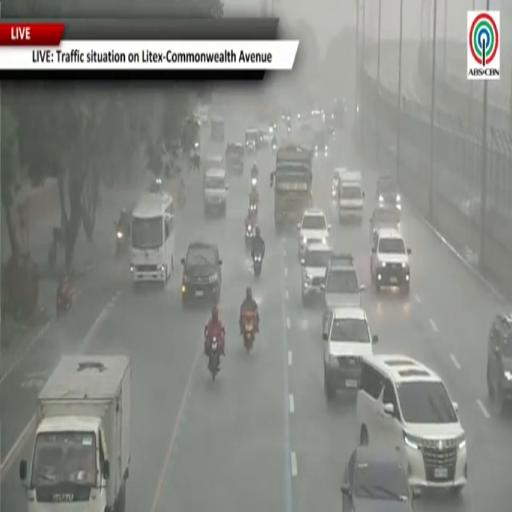bus: (131, 192, 174, 283)
car: (356, 355, 467, 493), (342, 446, 420, 511), (323, 308, 378, 398), (323, 254, 365, 332), (370, 229, 411, 294), (182, 243, 222, 306), (487, 313, 511, 410), (301, 244, 332, 305), (297, 208, 330, 259), (203, 169, 228, 216), (370, 207, 401, 243), (376, 175, 401, 210), (226, 142, 244, 173), (332, 168, 347, 200), (314, 129, 329, 157), (245, 128, 261, 152), (203, 154, 224, 171), (211, 117, 224, 142)
motorcycle: (209, 336, 220, 381), (243, 312, 255, 353), (56, 290, 73, 316), (116, 223, 128, 257), (245, 223, 255, 250), (254, 253, 263, 278), (249, 200, 258, 218), (177, 190, 185, 209), (251, 176, 257, 188), (272, 143, 277, 152), (287, 125, 291, 134)
truck: (20, 356, 131, 511), (271, 144, 313, 229), (339, 171, 364, 222)
